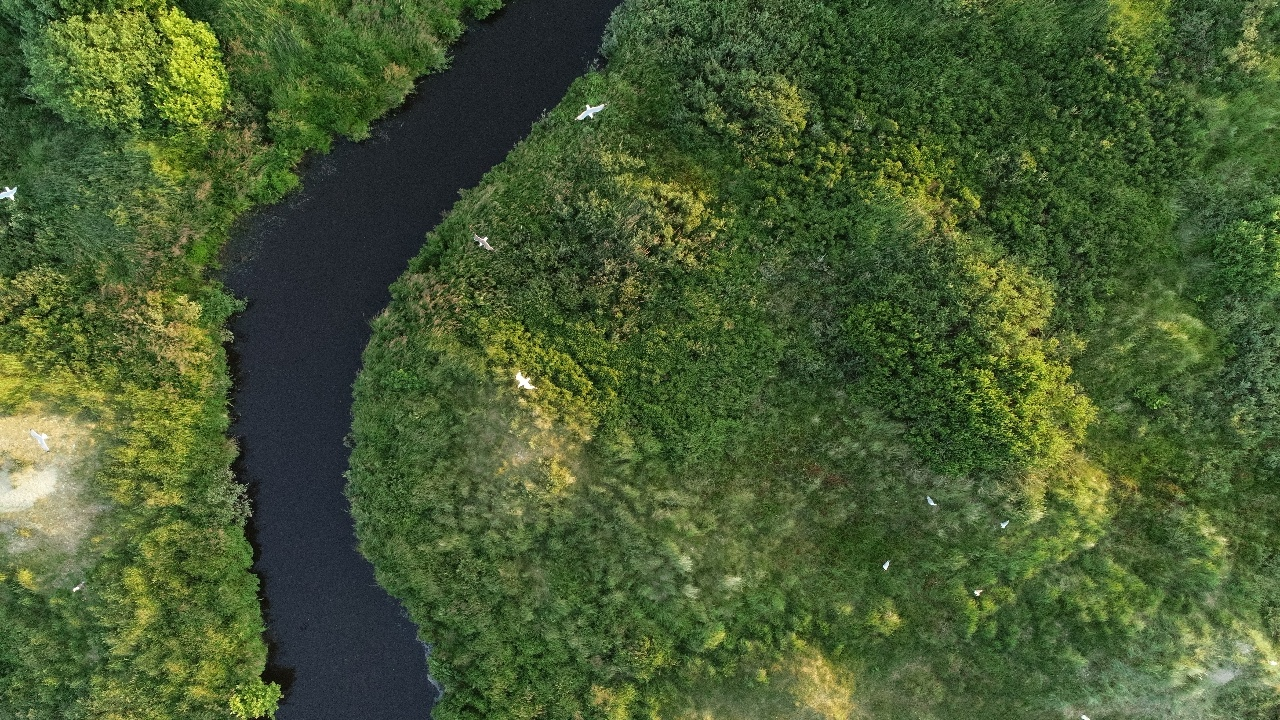Bird: (17, 419, 63, 461), (55, 562, 101, 604), (501, 360, 547, 402), (459, 218, 505, 260), (568, 87, 614, 129), (907, 475, 953, 517), (980, 500, 1026, 542), (954, 568, 1000, 610), (864, 540, 910, 582)
